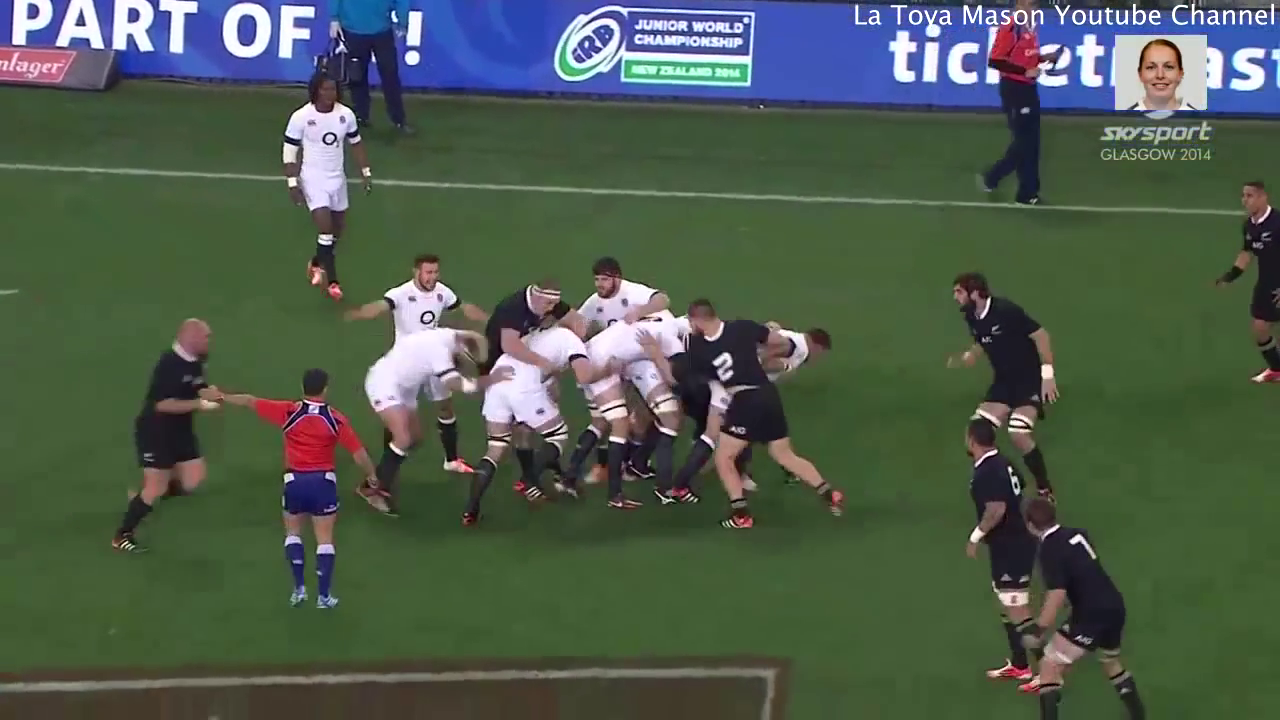player: (189, 357, 382, 620), (678, 293, 849, 552), (948, 412, 1064, 720), (100, 306, 233, 571), (932, 262, 1066, 512), (1017, 493, 1156, 720), (351, 320, 489, 538), (457, 309, 587, 540), (567, 292, 684, 538), (277, 63, 381, 304), (1198, 172, 1280, 398), (337, 252, 495, 348), (466, 261, 569, 364), (575, 259, 676, 334), (737, 310, 837, 384)
